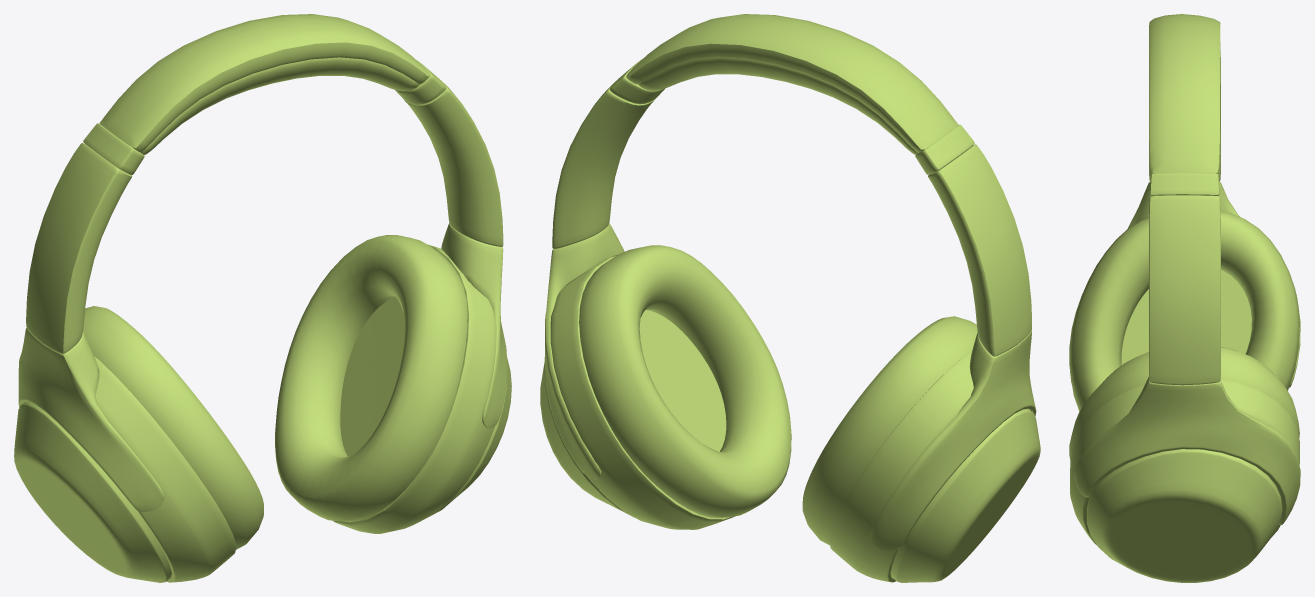
The model's file is ThreejsScene (3).glb.
3 views of the same model, side by side, from view 1: azimuth 30°, elevation 25°; view 2: azimuth 150°, elevation 25°; view 3: azimuth 270°, elevation 25° (orthographic). The views are drawn at different scales.
Parts seen in each view (by area): view 1: уховнешнее001; view 2: уховнешнее001; view 3: уховнешнее001.
Part boxes in pixels (x1,y1,x2,y2): уховнешнее001: [14, 14, 511, 582]; уховнешнее001: [540, 14, 1040, 582]; уховнешнее001: [1069, 14, 1300, 582].
Size of the model in its own units: 4.3 by 4.62 by 1.99.
